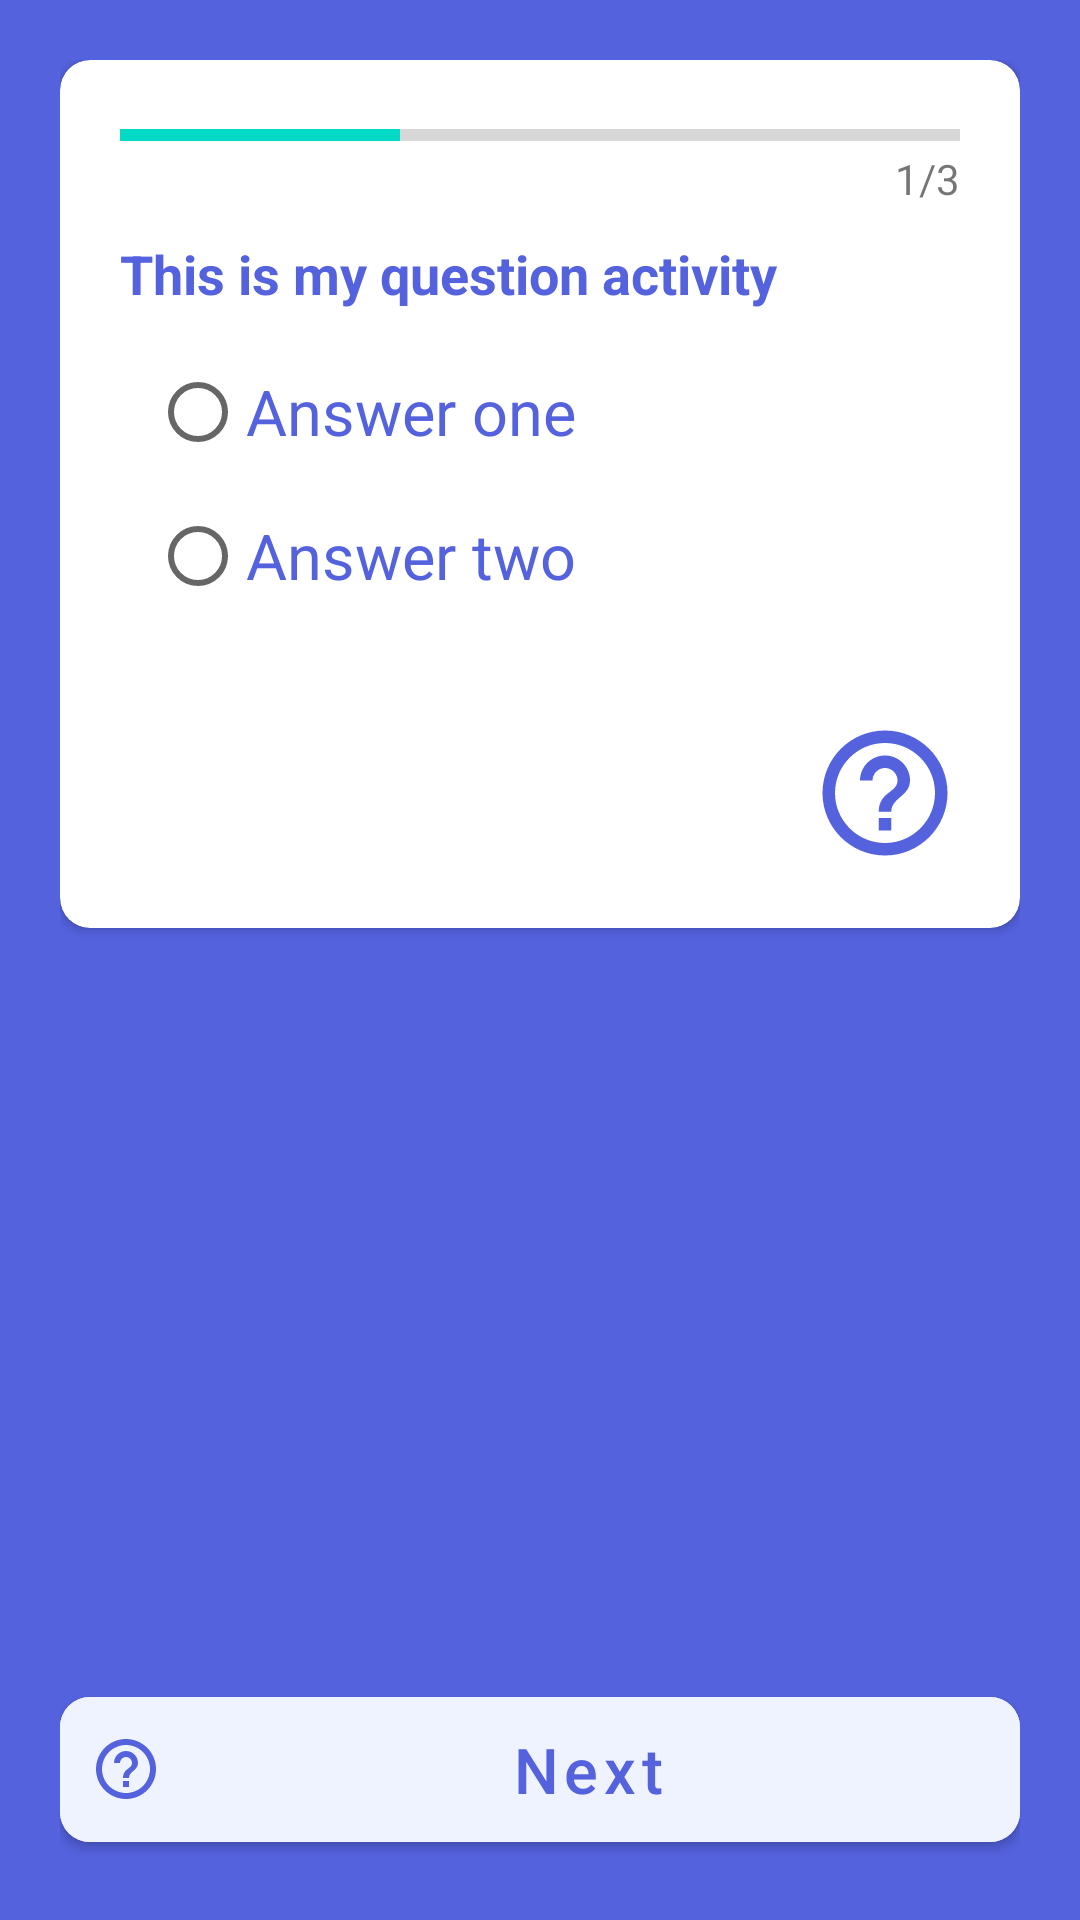

Named icons in this screenshot (1080×1920) and their bounding boxes, bbox(x1, y1, x2, y2):
help: bbox(822, 730, 948, 856)
